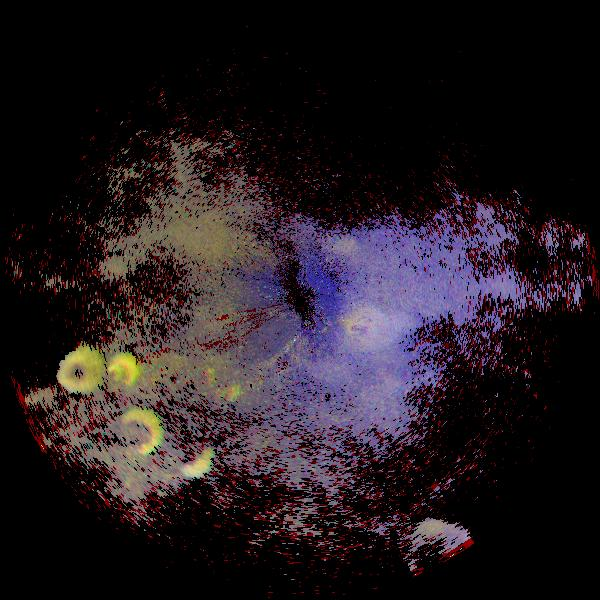roost: (396, 502, 492, 598), (321, 290, 399, 368), (99, 397, 174, 472), (176, 355, 248, 427), (49, 339, 115, 405), (160, 426, 226, 492), (98, 348, 146, 396)
